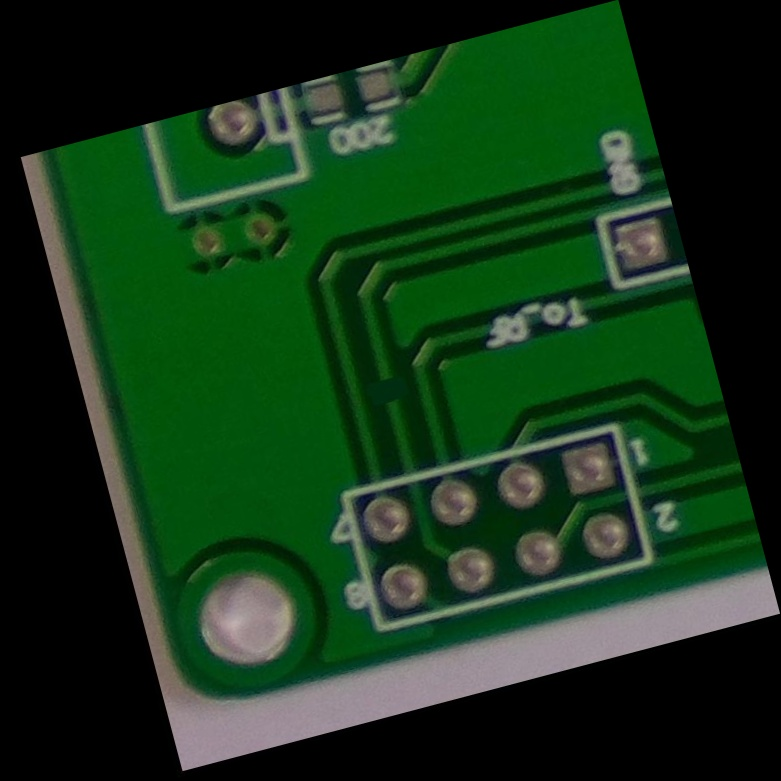open_circuit: (368, 364, 412, 417)
